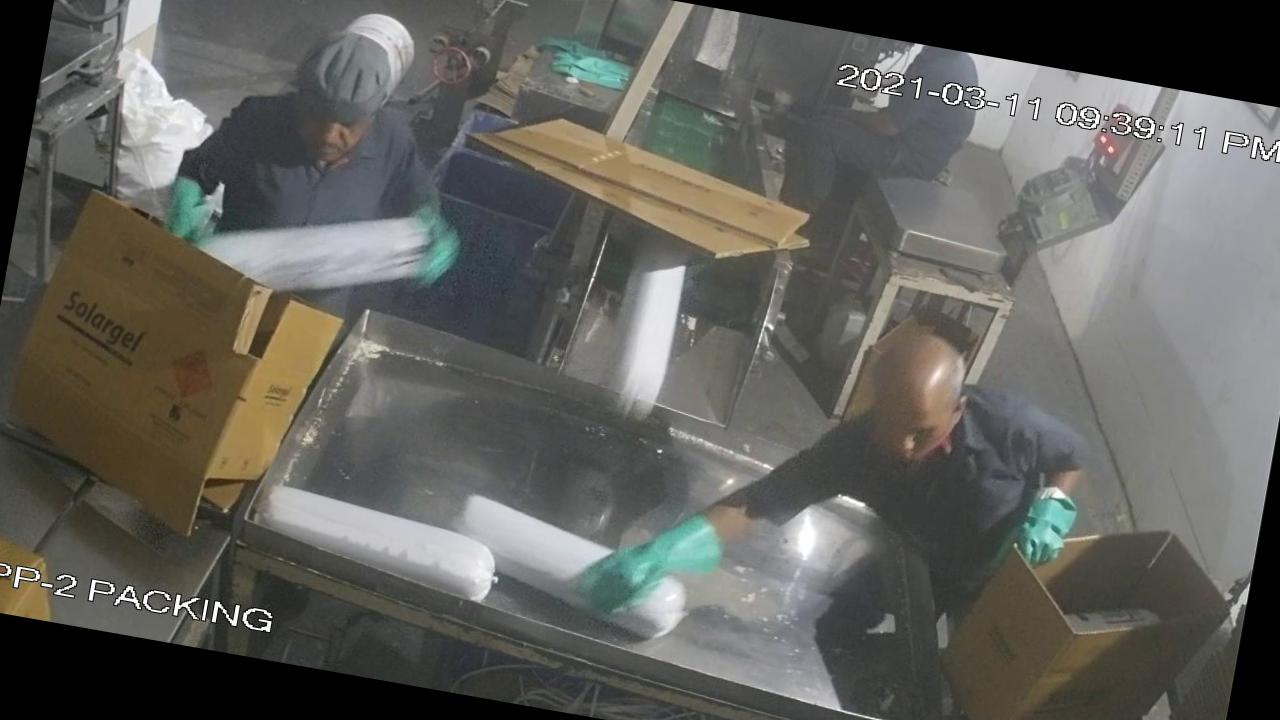Helmet: (301, 16, 408, 119)
